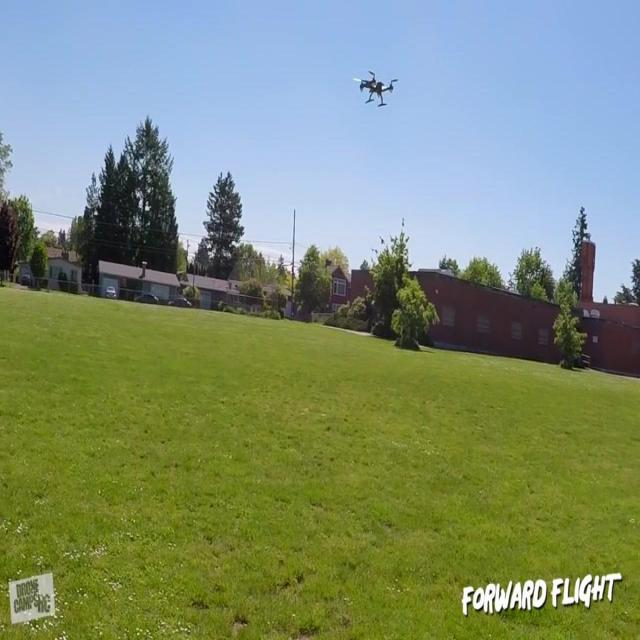drone: (354, 68, 401, 114)
